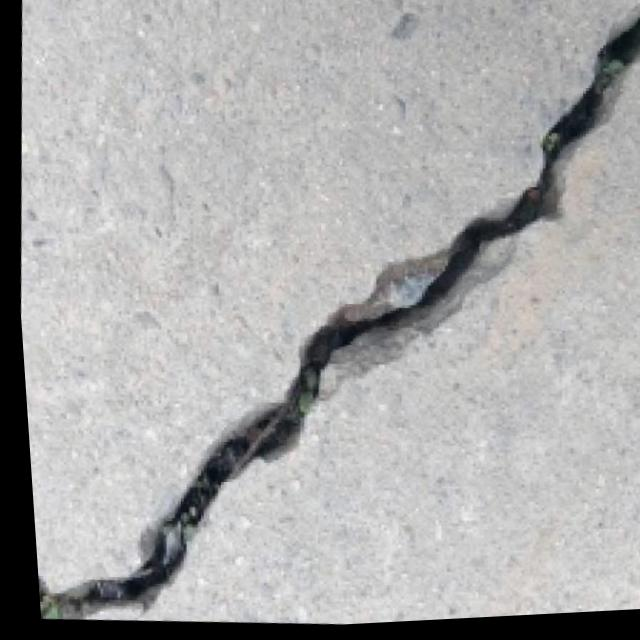Crack: (5, 0, 640, 640)
